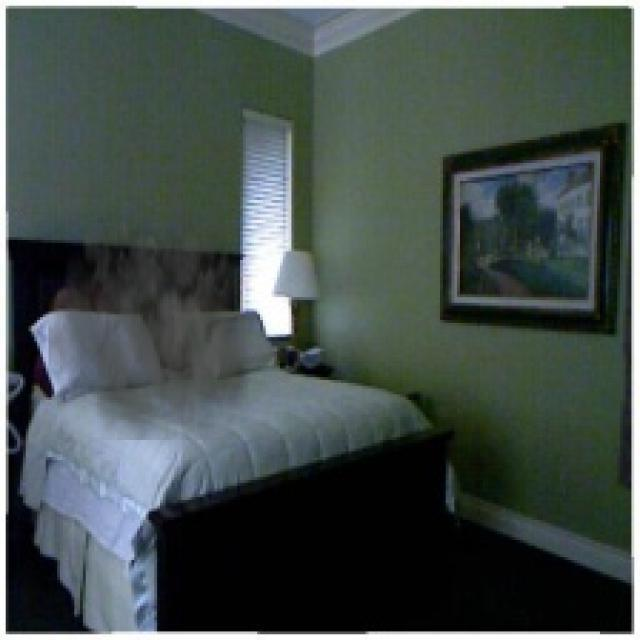Smoke: (48, 188, 260, 440)
